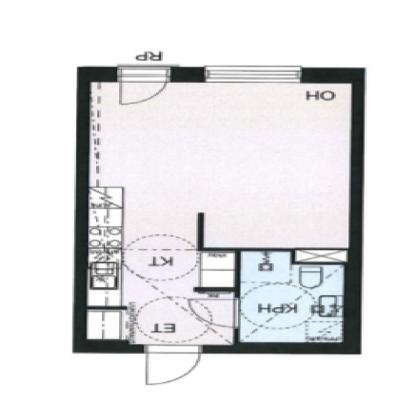door: (146, 341, 205, 395), (184, 295, 238, 333), (113, 74, 167, 104)
window: (202, 65, 297, 80), (120, 66, 170, 80)
zone: (89, 82, 348, 247), (79, 245, 234, 343), (238, 249, 341, 341)
